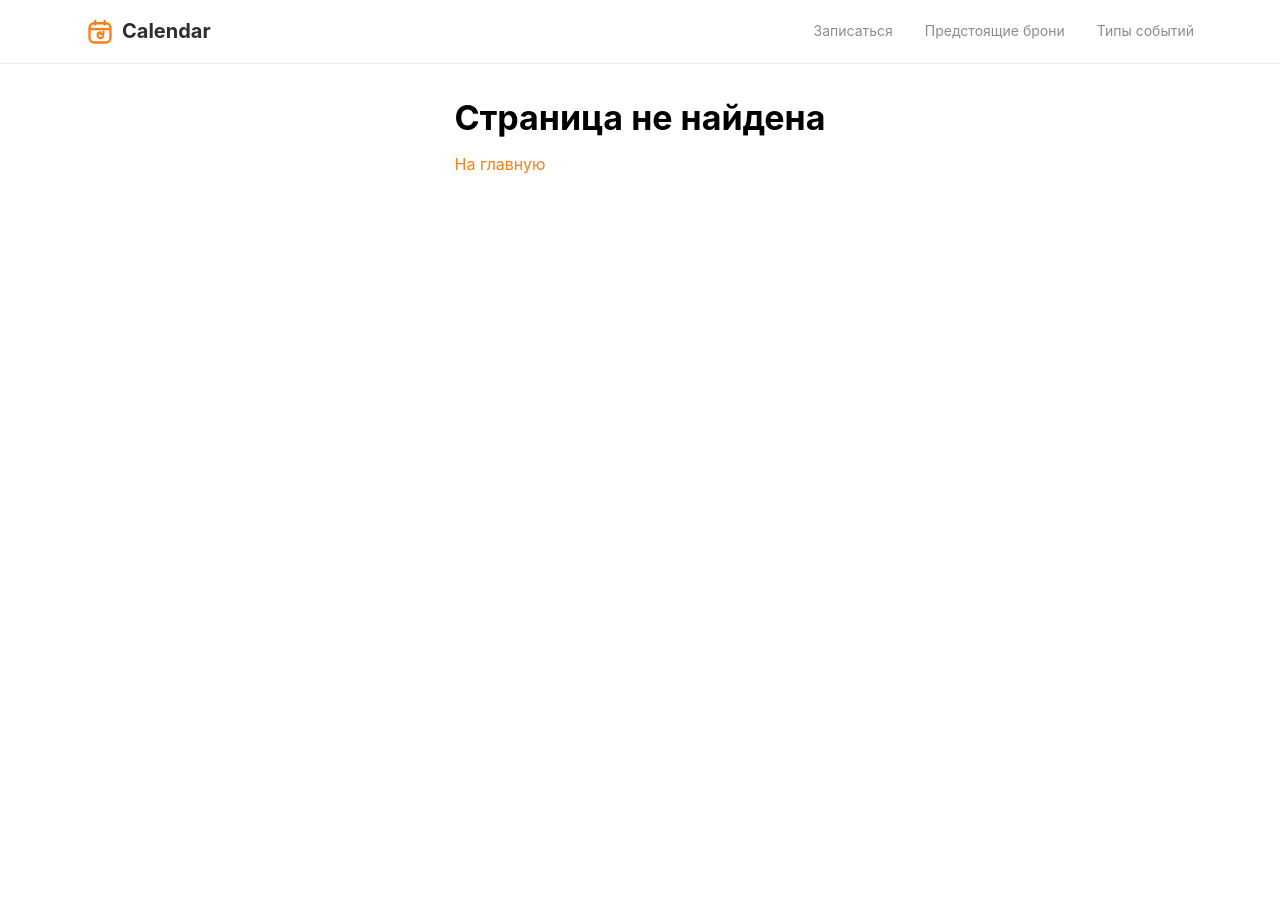
Test: AppRoutes › ведёт со страницы «не найдено» обратно на лендинг
Step 1. Click the link "На главную" → (500, 165), box [454,152,546,177]
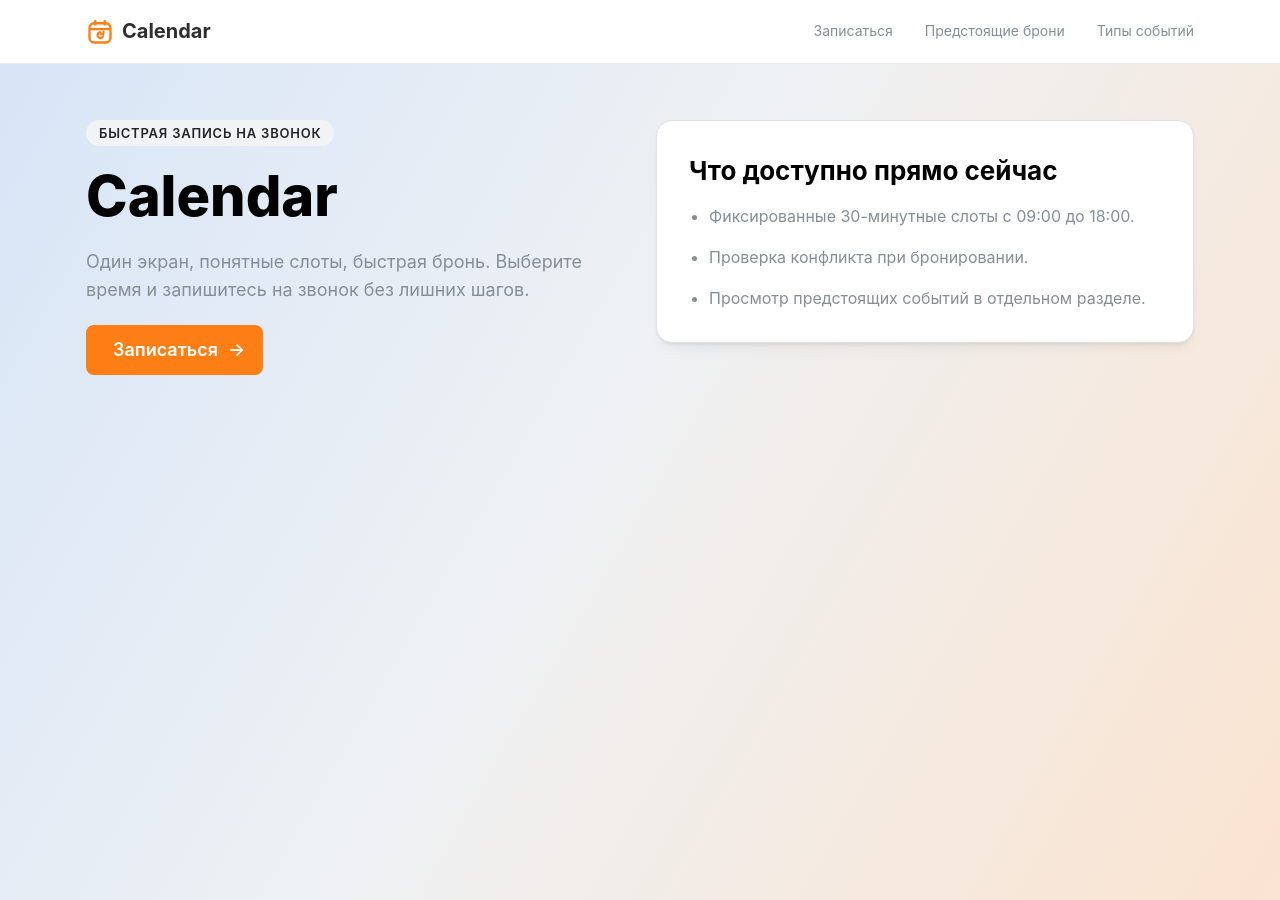
Expected: the heading "Calendar" is shown, [86,166,338,228]
